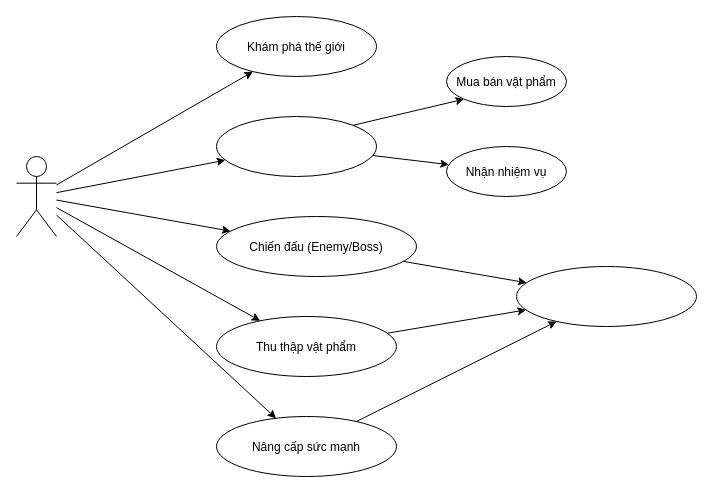
Image size: 713x493. Some labels were removed from this diagram. Here are the shapes that lost their labels. From the top down, the centre of each, then its label:
point 296,146: Tương tác NPC
point 36,196: Player
point 606,296: Tiến trình cốt truyện
